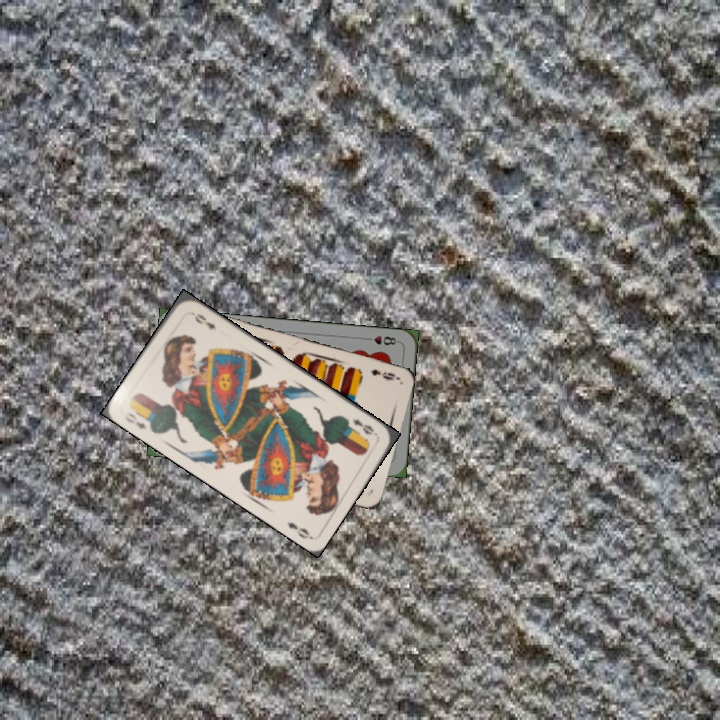E9: (367, 365, 399, 383)
EO: (120, 408, 149, 432), (348, 415, 377, 438)
H8: (361, 332, 401, 348)
